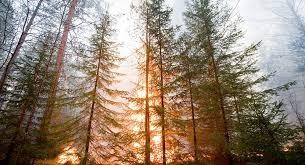fire: (54, 143, 78, 163)
